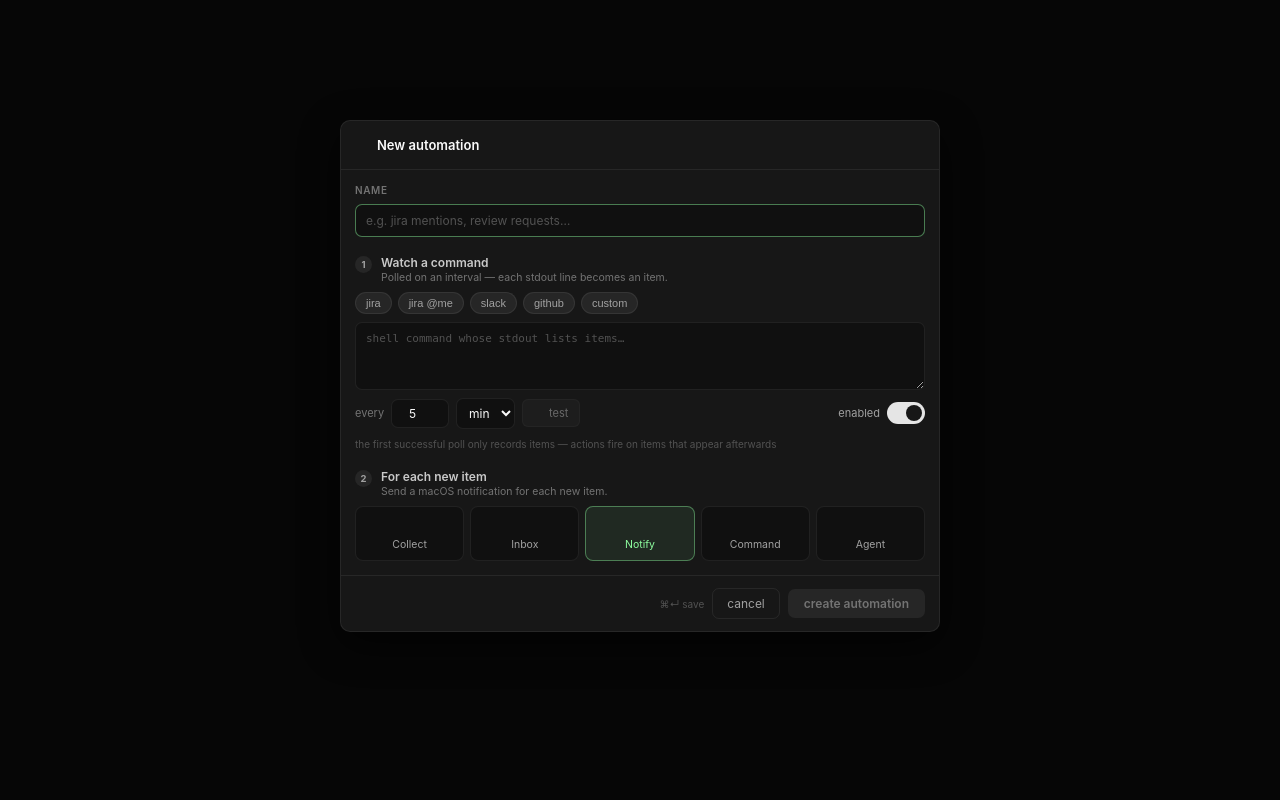
it: AutomationEditor › fills the command and selects the chip when a preset is applied
This screenshot has width=1280, height=800.
What coordinates should you click on to do the following:
click the button with class "fanout-kind" showing "github"
I would click on:
 (549, 303)
Its box is [523,292,575,314].
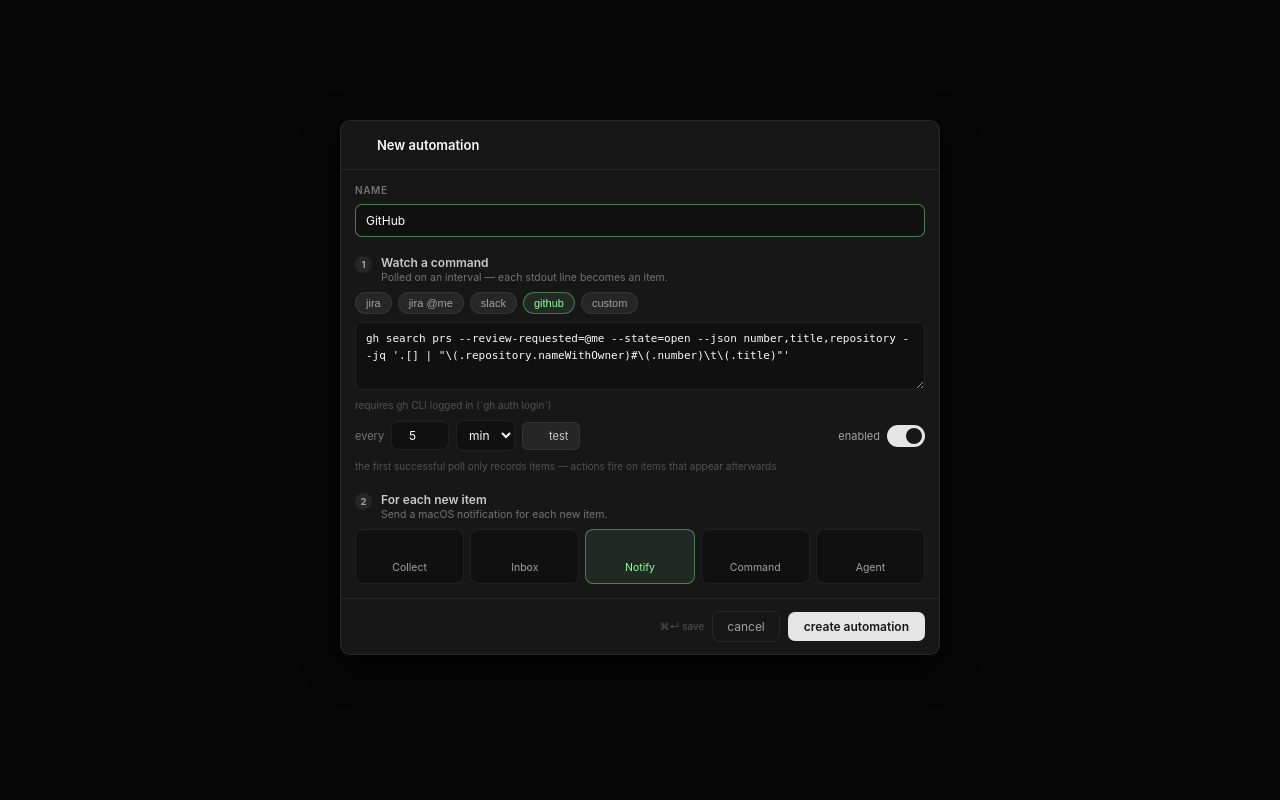
Result: the button with class "autoedit-save" is enabled at [788,612,925,640]
